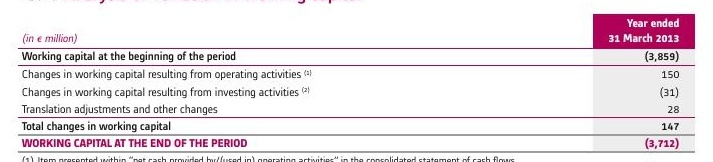table: (0, 0, 713, 162)
